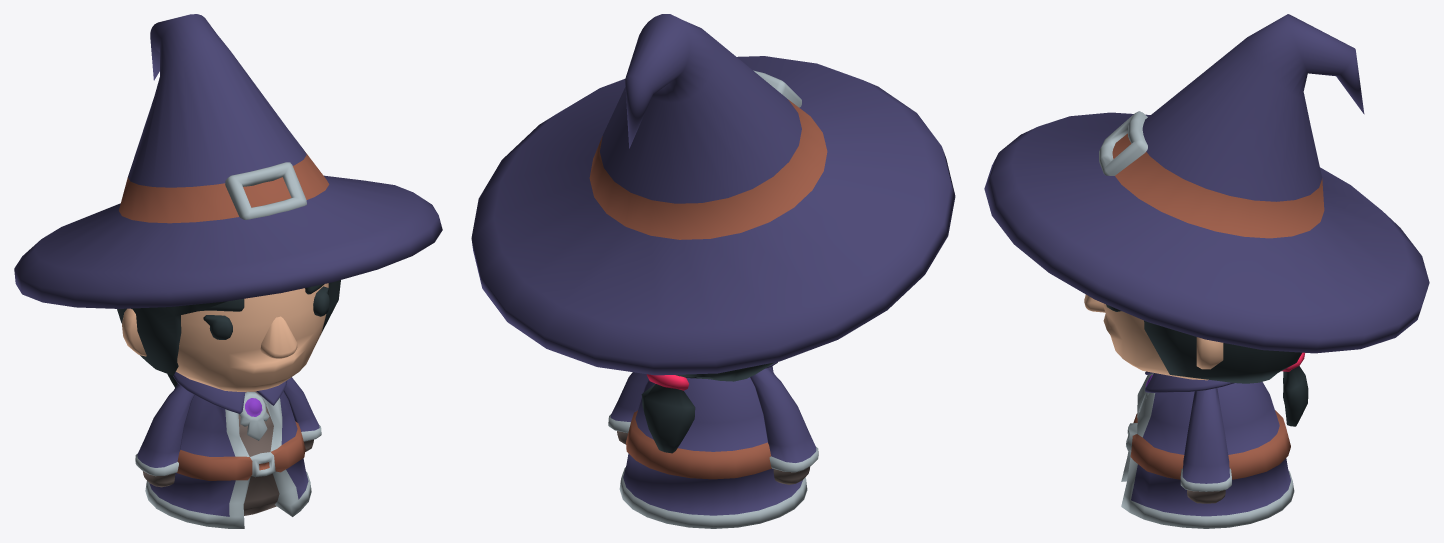
3 views of the same model, side by side, from view 1: azimuth 30°, elevation 25°; view 2: azimuth 150°, elevation 25°; view 3: azimuth 270°, elevation 25° (orthographic). The views are drawn at different scales.
Parts seen in each view (by area): view 1: character_mageBody; view 2: character_mageBody; view 3: character_mageBody.
Part boxes in pixels (x1,y1,x2,y2): character_mageBody: (14, 14, 442, 528); character_mageBody: (471, 14, 955, 528); character_mageBody: (984, 14, 1429, 528).
Size of the model in its own units: 2.1 by 2.44 by 2.05.
